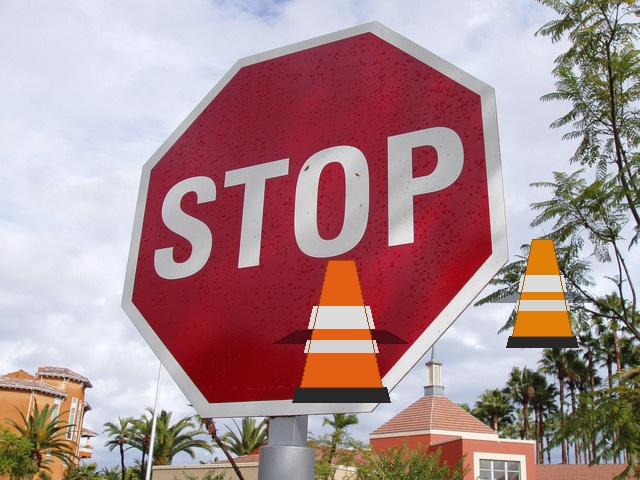traffic-cone: (292, 260, 390, 402), (506, 239, 578, 347)
